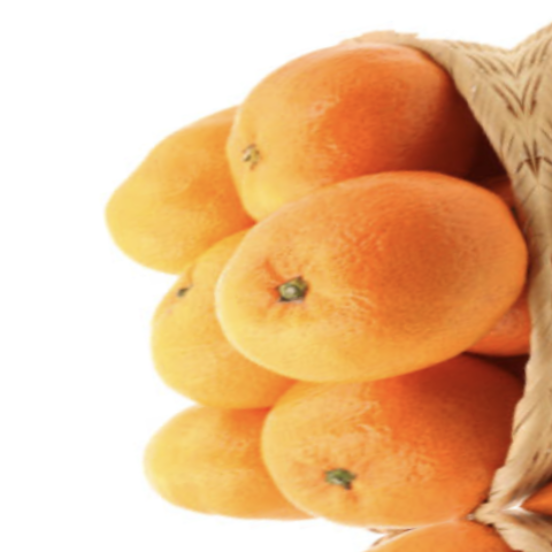orange: (182, 135, 546, 417), (181, 0, 488, 263), (224, 321, 552, 552)
